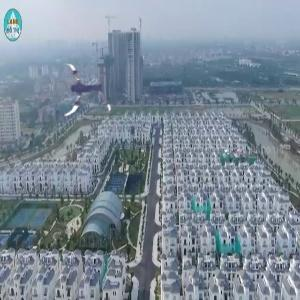drone: (52, 60, 113, 121)
